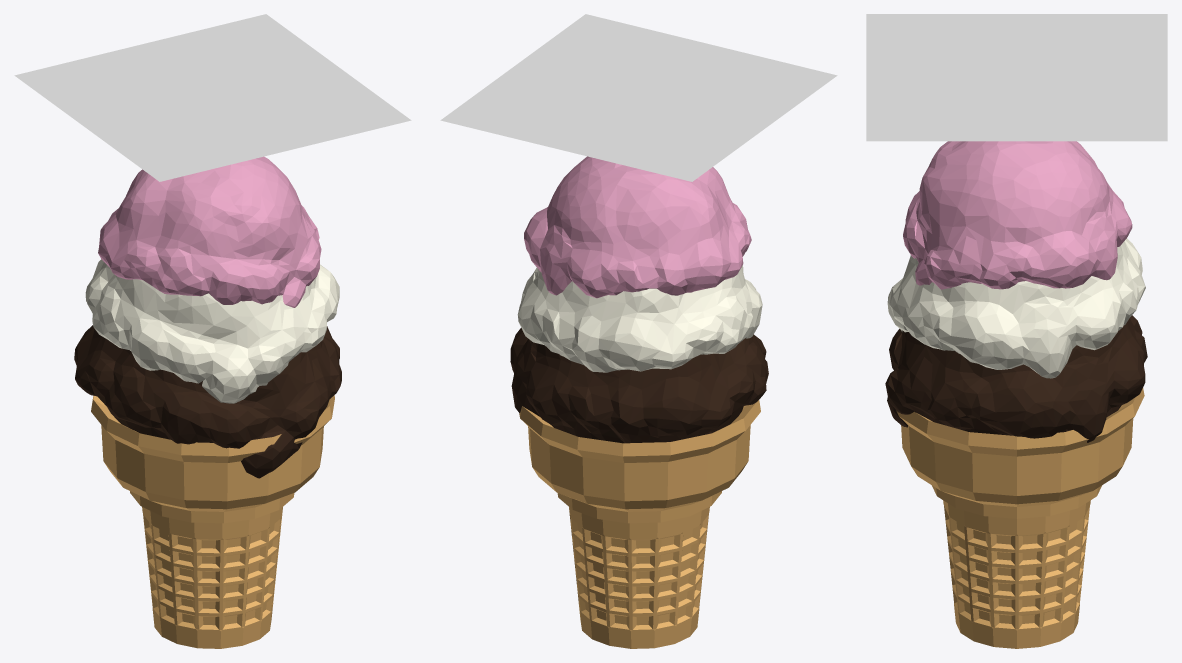
The model's file is iceCream-2.fbx.
3 views of the same model, side by side, from view 1: azimuth 30°, elevation 25°; view 2: azimuth 150°, elevation 25°; view 3: azimuth 270°, elevation 25° (orthographic). The views are drawn at different scales.
Visible parts, largest first — view 1: Plane, iceCreamCone, Sphere.002, Sphere.001, Sphere; view 2: Plane, iceCreamCone, Sphere.002, Sphere, Sphere.001; view 3: Plane, iceCreamCone, Sphere.002, Sphere, Sphere.001.
Part boxes in pixels (left/top/right/bottom): Plane: left=14, top=14, right=411, bottom=181; iceCreamCone: left=91, top=395, right=334, bottom=648; Sphere.002: left=98, top=156, right=321, bottom=307; Sphere.001: left=85, top=259, right=339, bottom=403; Sphere: left=74, top=325, right=341, bottom=478; Plane: left=440, top=14, right=837, bottom=181; iceCreamCone: left=519, top=400, right=760, bottom=648; Sphere.002: left=524, top=156, right=751, bottom=298; Sphere: left=510, top=328, right=768, bottom=443; Sphere.001: left=517, top=265, right=762, bottom=372; Plane: left=866, top=14, right=1167, bottom=141; iceCreamCone: left=896, top=388, right=1144, bottom=648; Sphere.002: left=903, top=141, right=1132, bottom=289; Sphere: left=885, top=315, right=1147, bottom=442; Sphere.001: left=887, top=238, right=1145, bottom=378.
Size of the model in its own units: 200 by 399 by 200.
